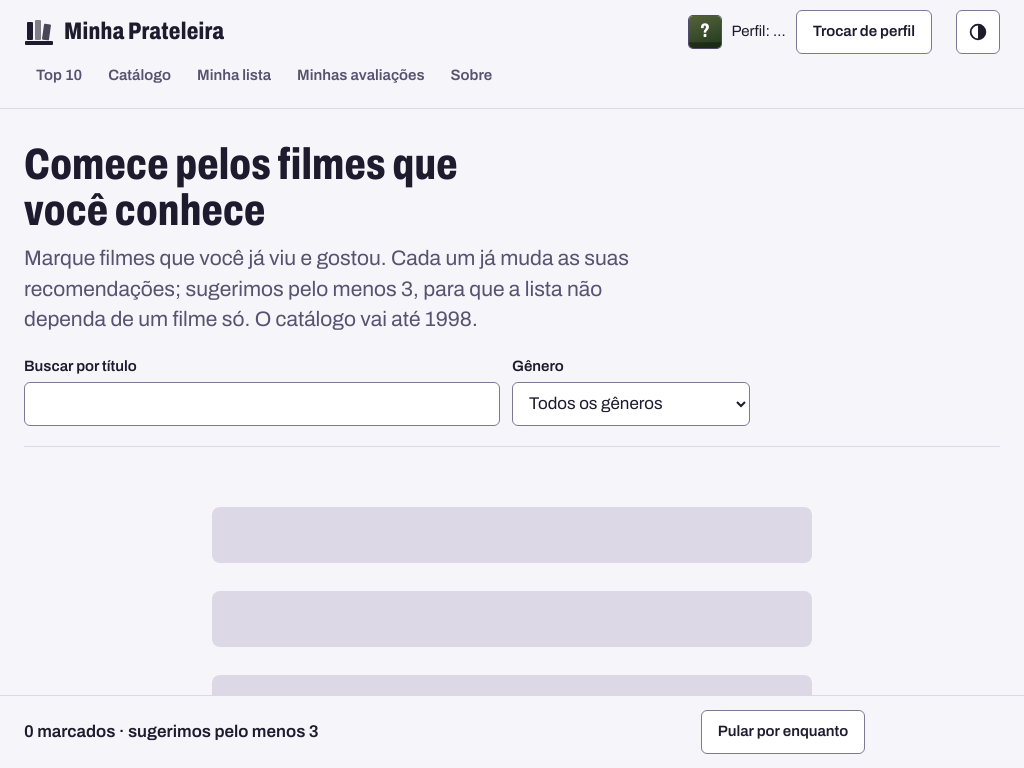
Scenario: erro preso ao perfil e conclusão única › resposta atrasada do perfil (ainda "não concluído") depois da conclusão não volta ao onboarding
Click the link "Top 10".
click(59, 75)  # box [36,67,82,83]
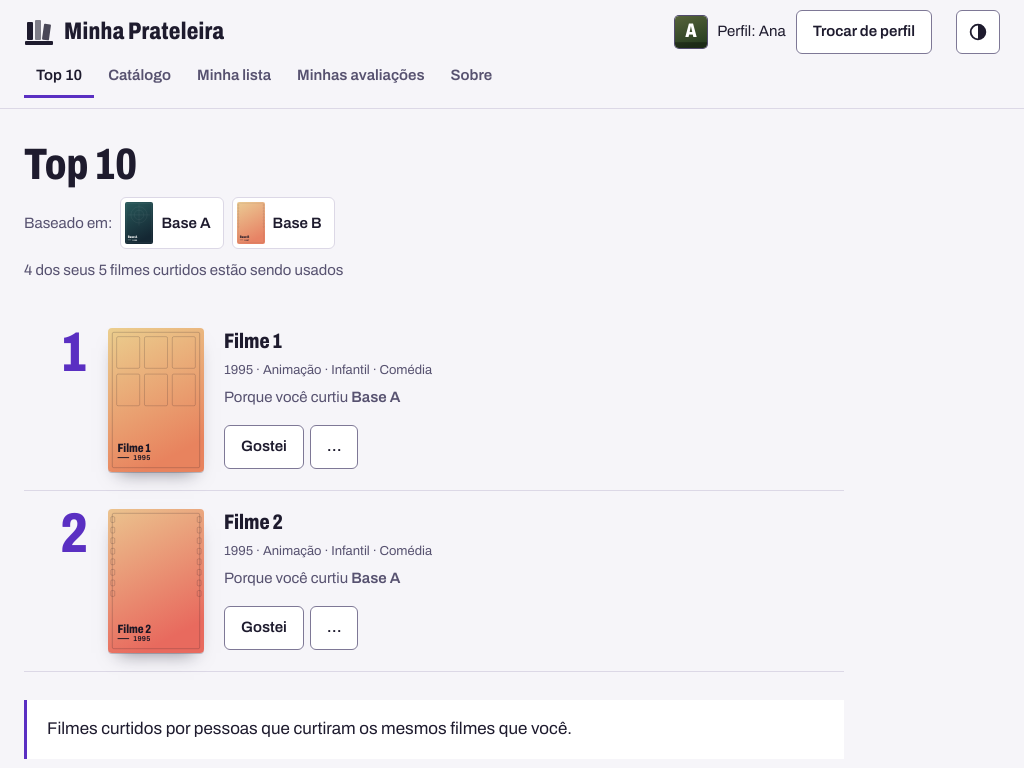
Check: the text "Perfil: Ana" is shown, box [717,20,786,44]
Check: the heading "Top 10" is shown, box [24,140,137,188]
Check: the text "Marque filmes que você já viu e gostou" is gone
